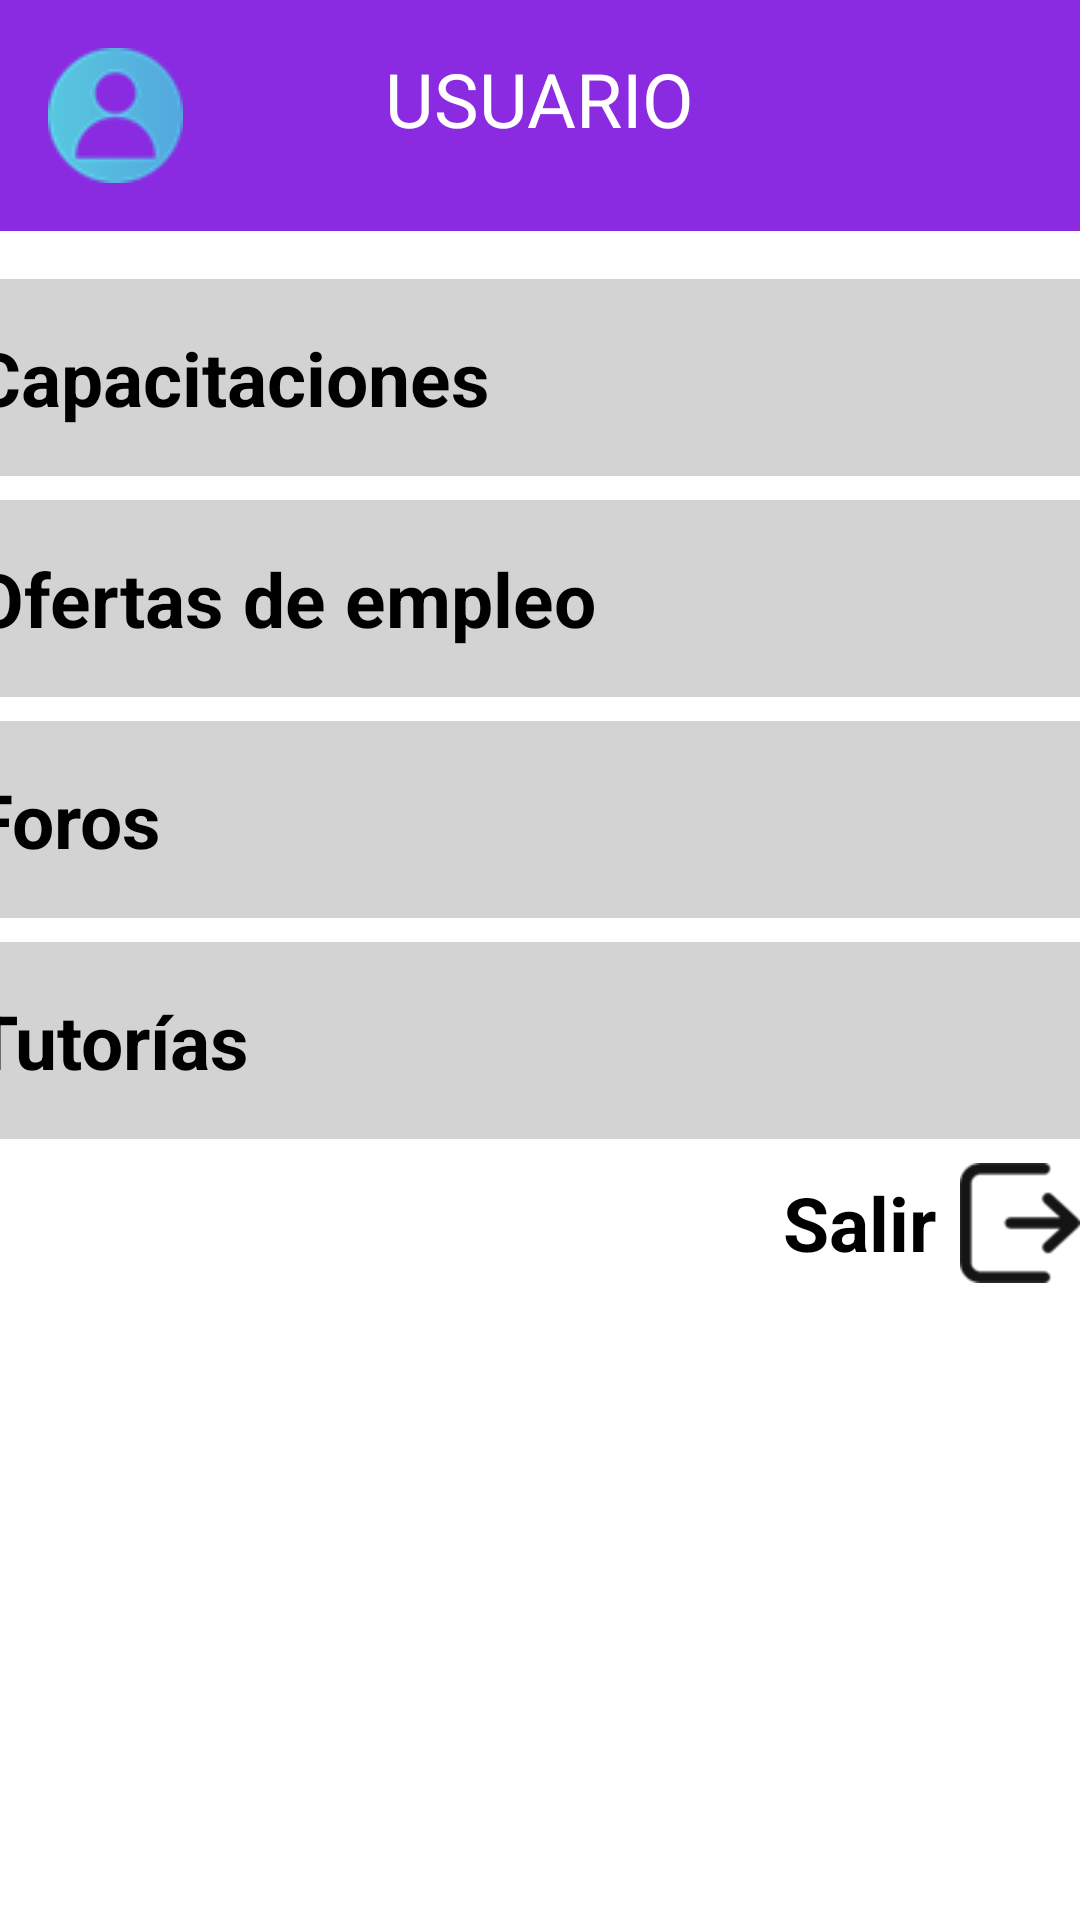

Icons on this 1080w x 1920h Android screen, each with the point to tap as point (x, y):
profile: point (115, 115)
